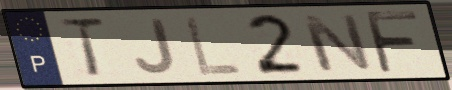2: (243, 12, 310, 77)
F: (361, 9, 423, 76)
J: (131, 16, 178, 76)
L: (181, 14, 245, 78)
N: (297, 12, 377, 74)
T: (55, 16, 110, 80)
